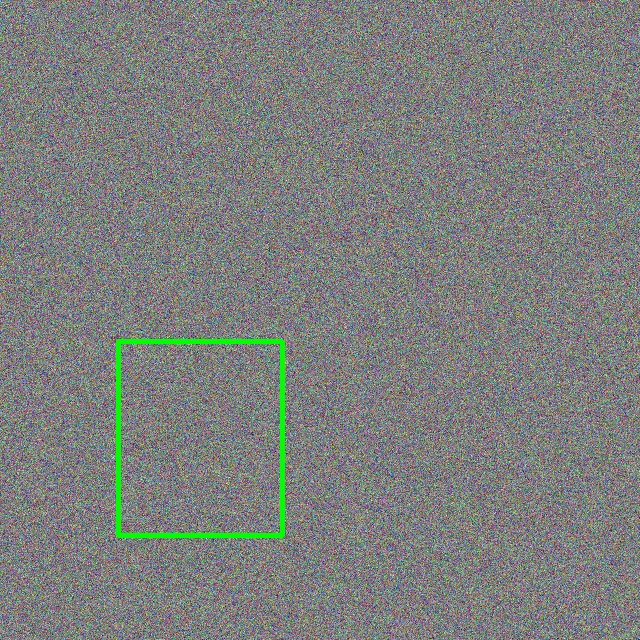base: (118, 341, 282, 535)
